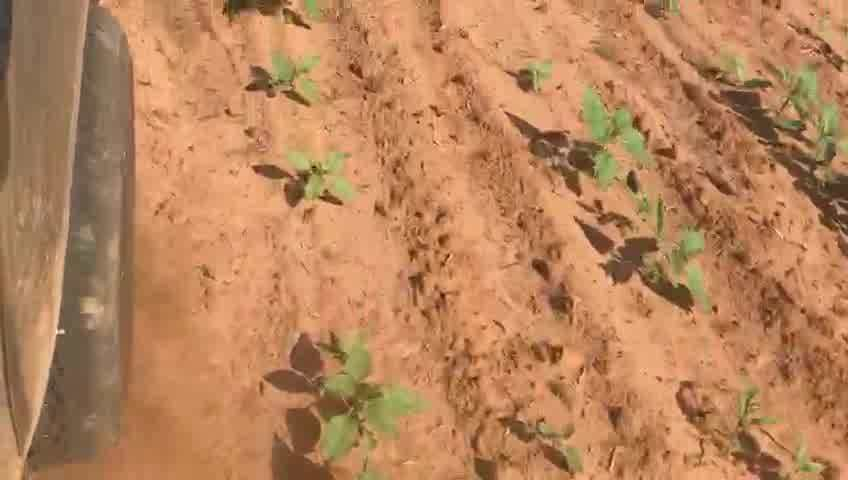sunflower: (284, 339, 425, 464), (603, 200, 709, 304), (553, 86, 652, 190), (256, 148, 359, 210), (244, 55, 331, 111), (711, 386, 776, 449), (771, 431, 833, 480), (262, 1, 325, 31), (512, 59, 557, 101)
